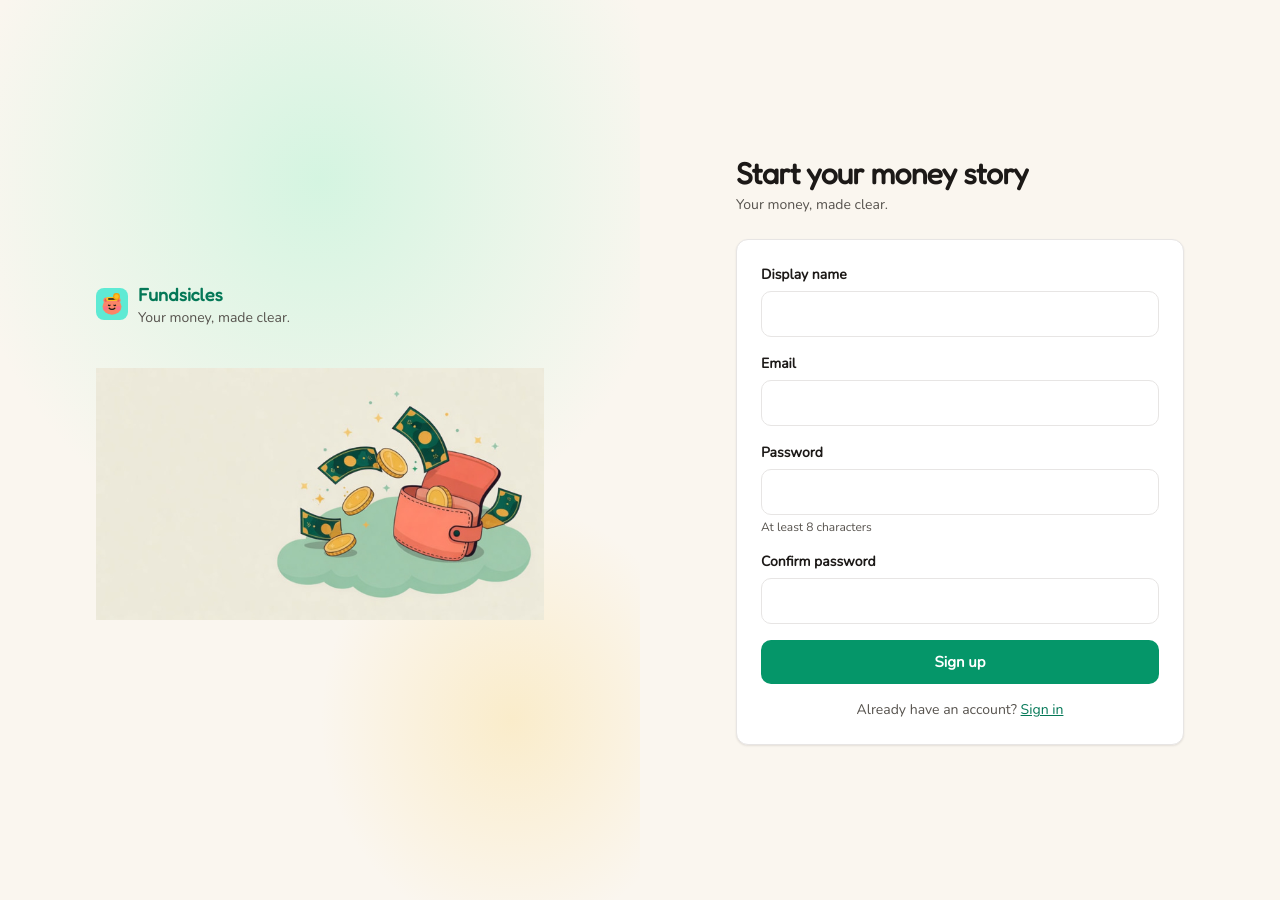
Test: signup confirmation modal › opens Check your inbox modal with submitted email when confirmation is required
Step 1. Type "Alex" into the field labelled "Display name" → (960, 314), box [761,291,1159,337]
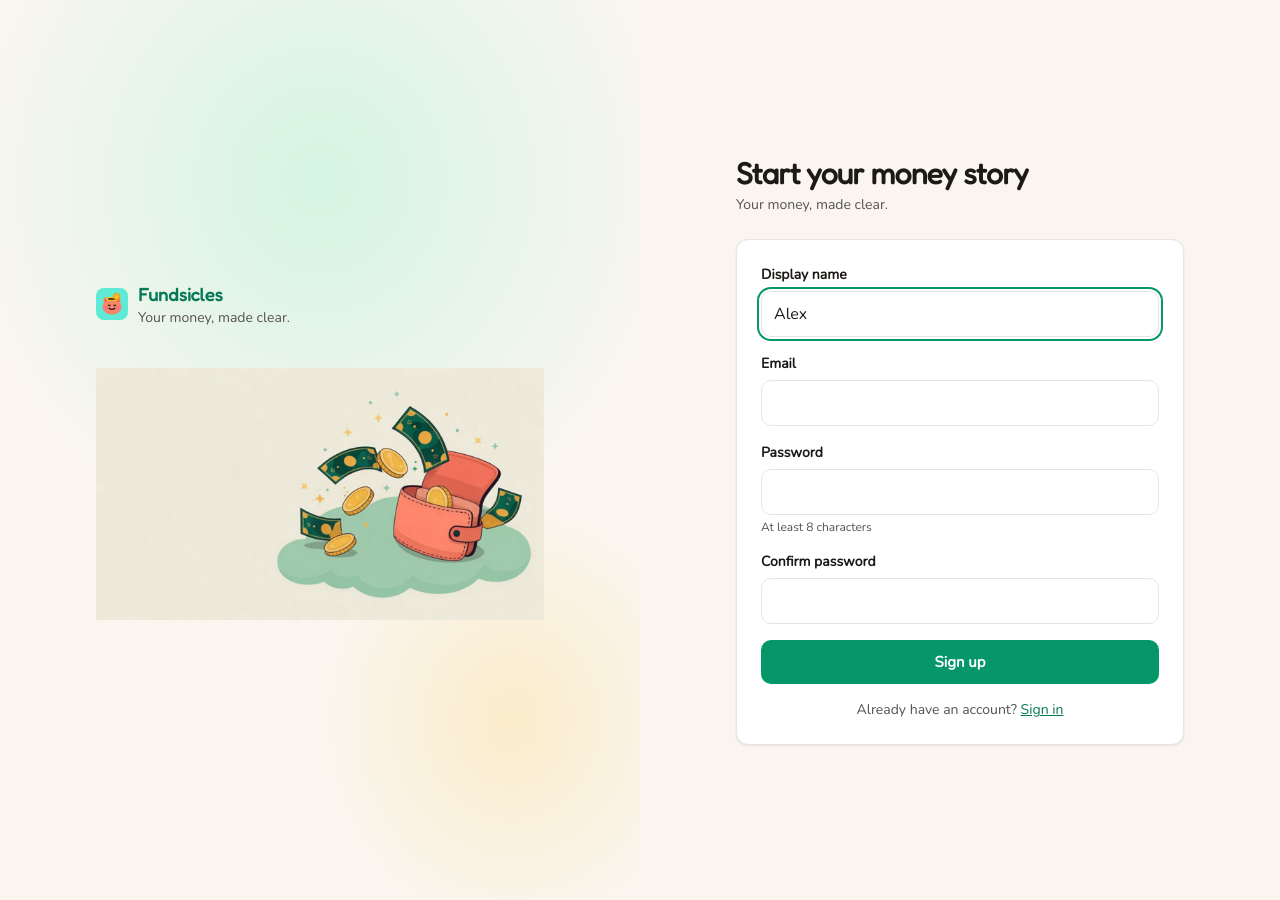
Step 2. Type "confirm-me@example.com" into the field labelled "Email" → (960, 403), box [761,380,1159,426]
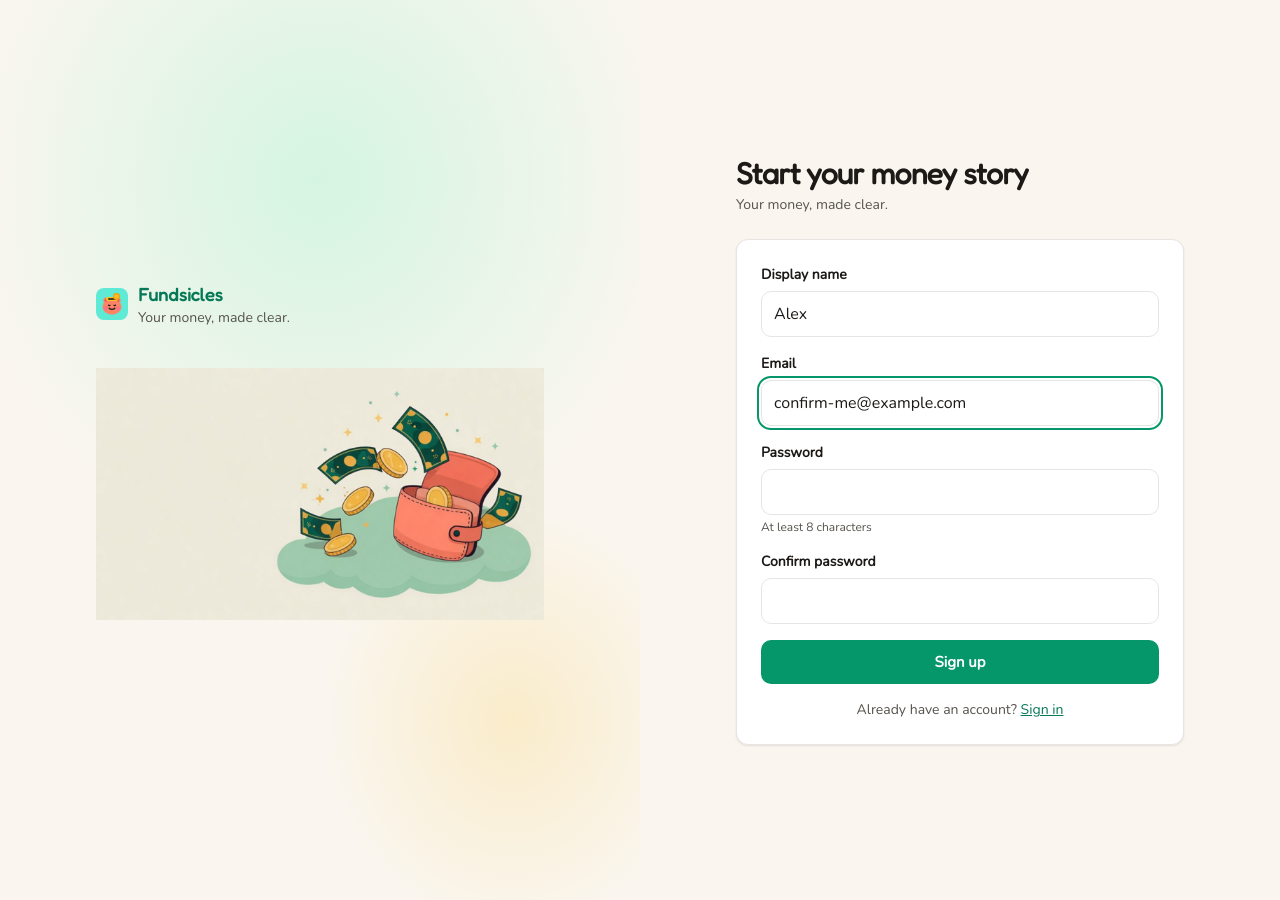
Step 3. Type "password1" into the password field labelled "Password" → (960, 492), box [761,469,1159,515]
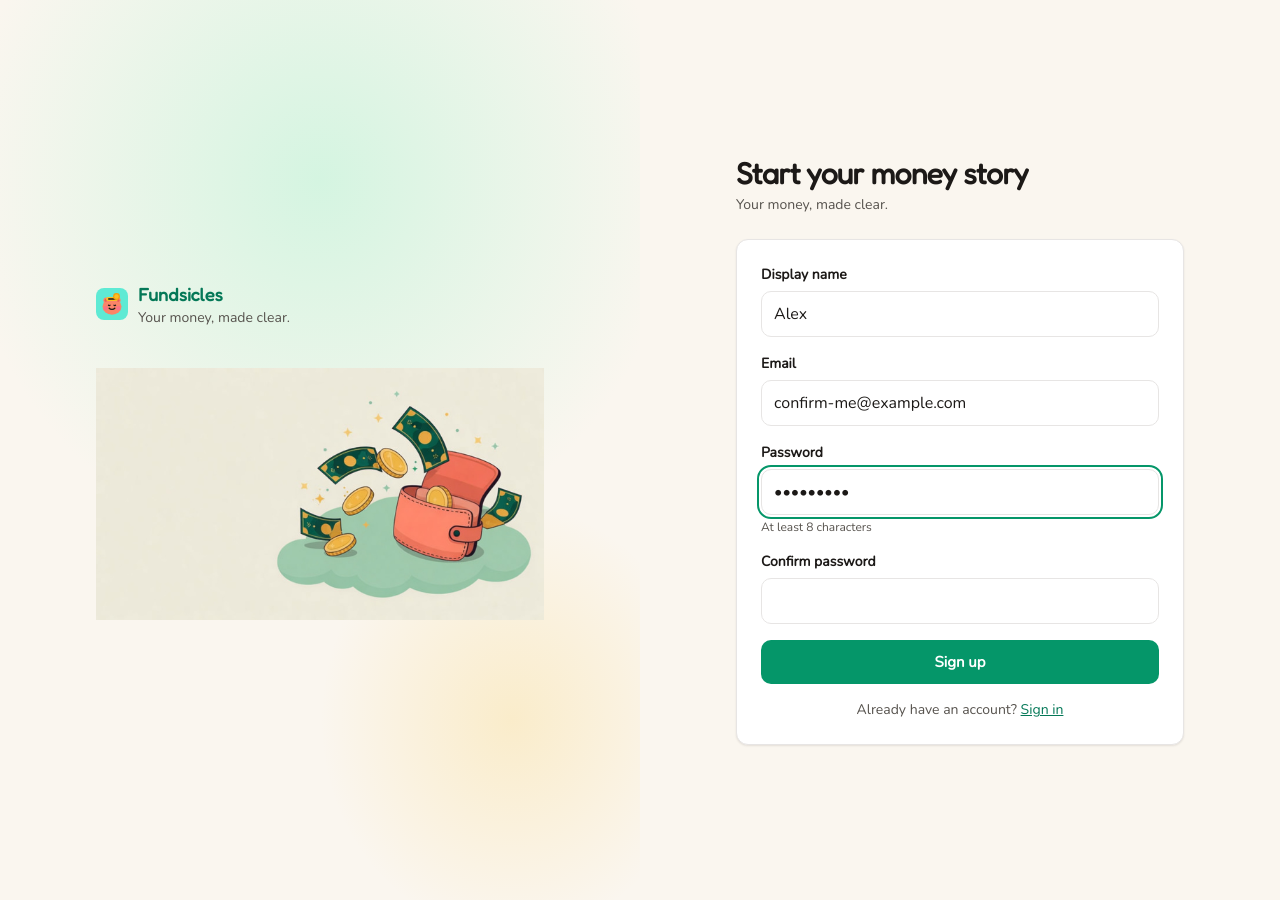
Step 4. Type "password1" into the password field labelled "Confirm password" → (960, 601), box [761,578,1159,624]
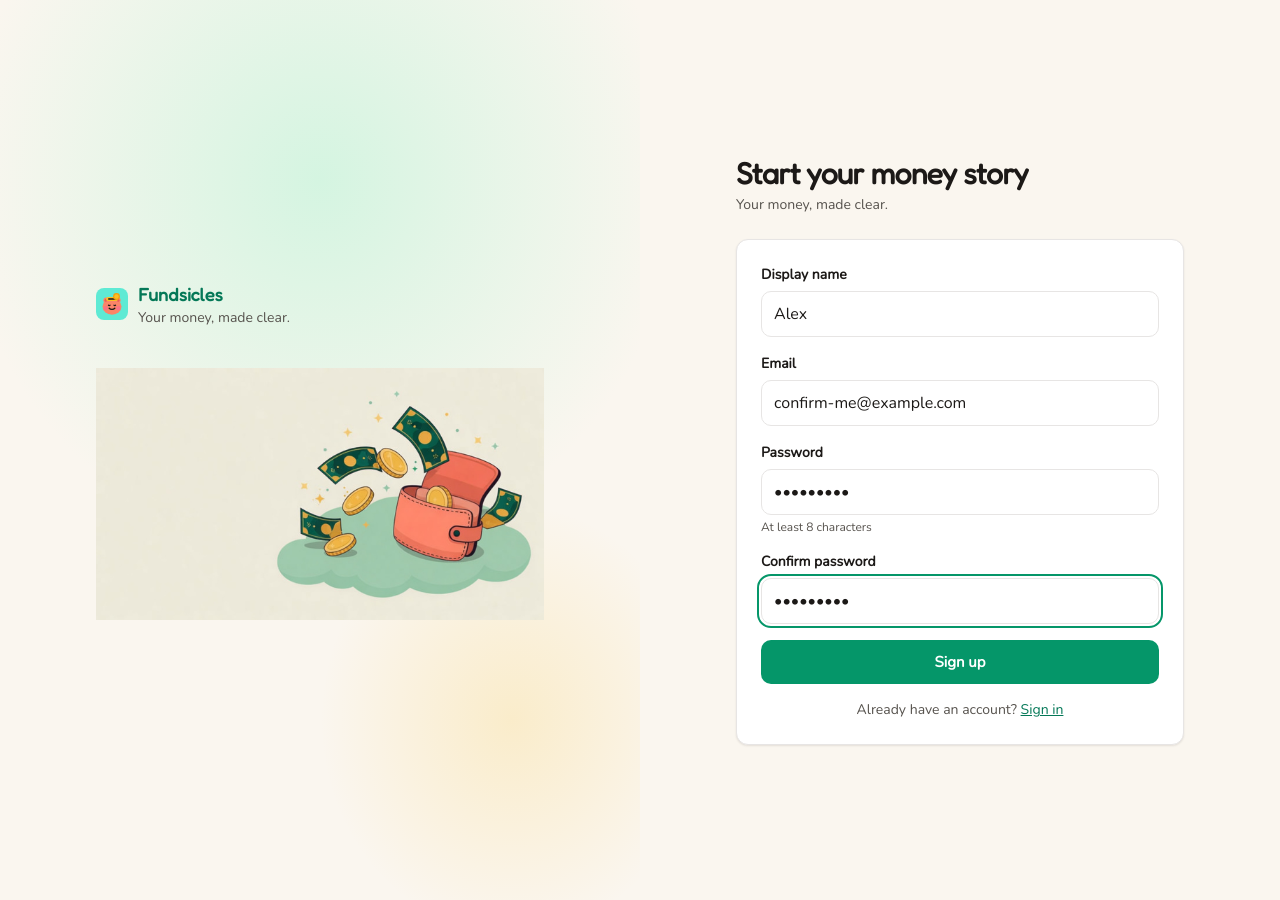
Step 5. Click the button "Sign up" → (960, 662), box [761,640,1159,684]
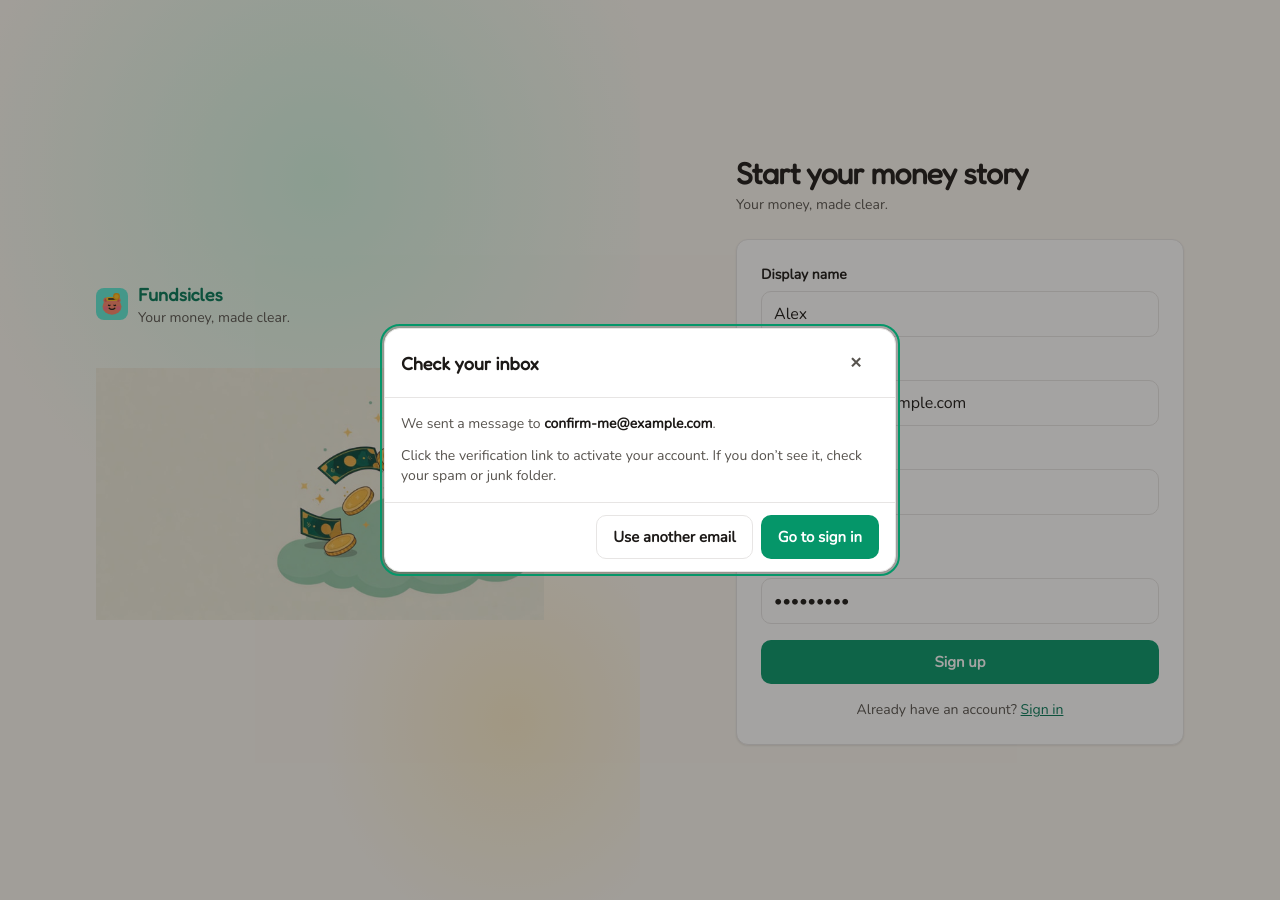
Expected: the dialog "Check your inbox" is shown, [384,328,896,572]
Expected: the text "confirm-me@example.com" is shown, [544,414,712,433]
Expected: the text "Click the verification link to activate your account. If you don’t see it, check your spam or junk folder." is shown, [401,446,862,485]
